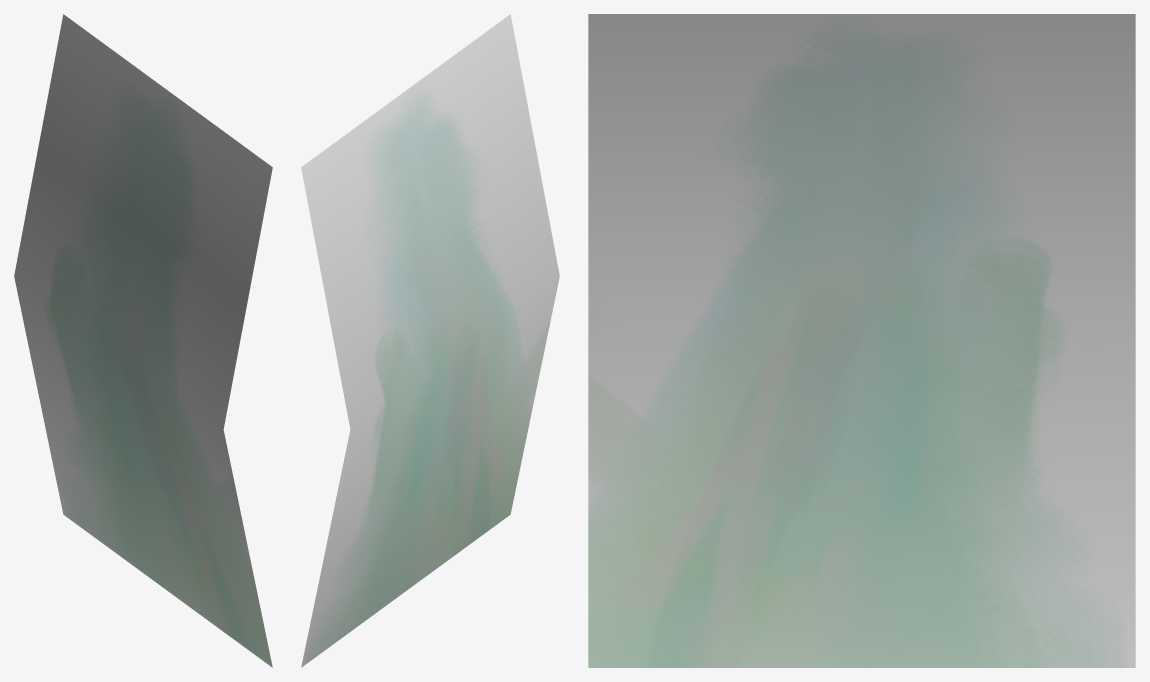
File: Battle01_Web_01.FBX
3 renders of one model, left to right at view 1: azimuth 30°, elevation 25°; view 2: azimuth 150°, elevation 25°; view 3: azimuth 270°, elevation 25°, orthographic. The views are drawn at different scales.
Parts seen in each view (by area): view 1: Battle01_Web_01; view 2: Battle01_Web_01; view 3: Battle01_Web_01.
Boxes of the visible parts, left/top/right/bottom form: Battle01_Web_01: left=14, top=14, right=272, bottom=667; Battle01_Web_01: left=301, top=14, right=559, bottom=667; Battle01_Web_01: left=588, top=14, right=1135, bottom=667.
Size of the model in its own units: 0.3087 by 3 by 2.28.
